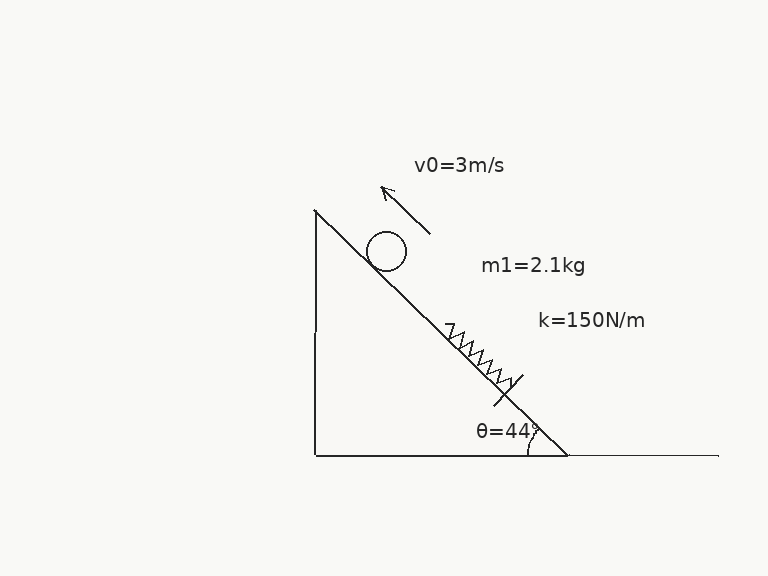ball: (364, 229, 408, 273)
ramp: (313, 208, 570, 457)
spring: (443, 321, 513, 389)
